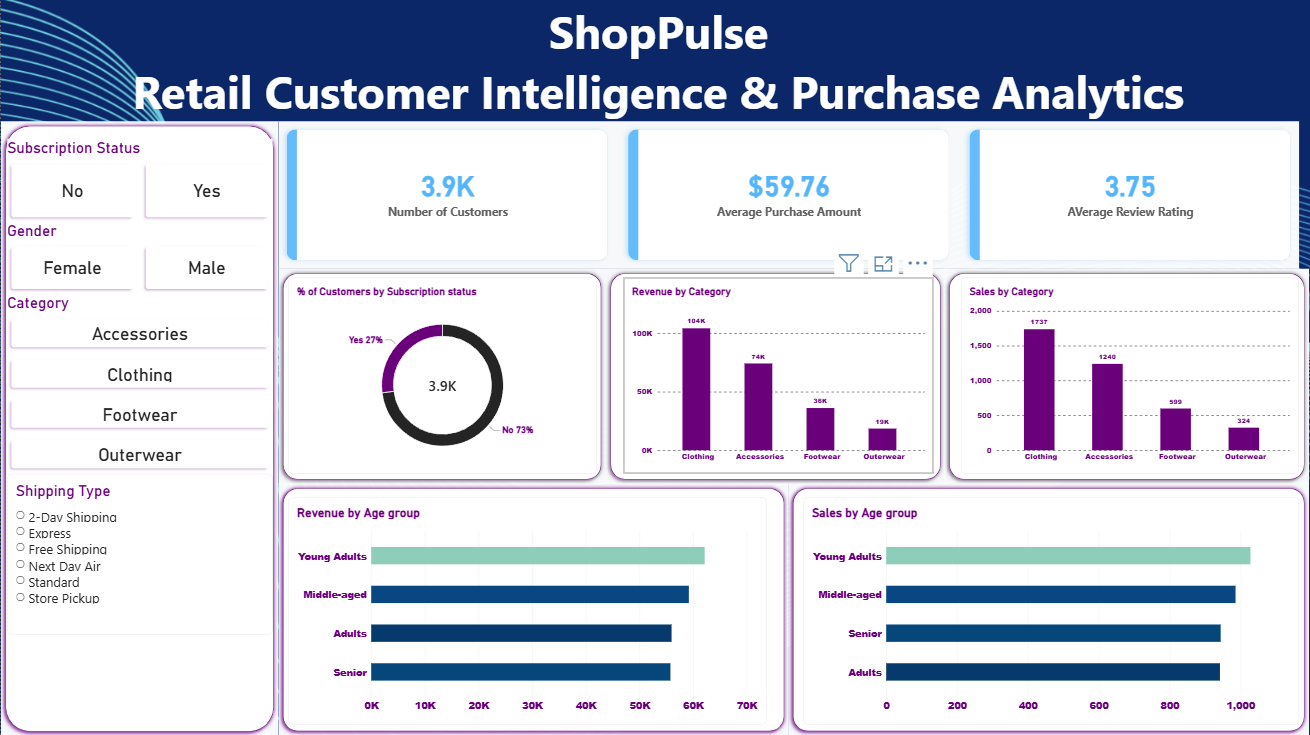

The dashboard page shown, as its layout file describes it:
{"tool":"powerbi","page":{"name":"Page 1","canvas":[2560,1440],"ordinal":0},"visuals":[{"type":"cardVisual","fields":{"Data":["public customer.Number of Customers","public customer.Average Purchase Amount","public customer.AVerage Review Rating"]},"box":[542.5,236.6,1996.8,288.6],"z":0},{"type":"shape","box":[542.5,525.2,640.6,421.3],"z":2000},{"type":"donutChart","title":"% of Customers by Subscription status","fields":{"Category":["public customer.subscription_status"],"Y":["CountNonNull(public customer.customer_id)"]},"box":[562.7,542.5,603.1,383.8],"z":3000},{"type":"shape","box":[1183.1,525.2,663.7,421.3],"z":4000},{"type":"shape","box":[1846.7,525.2,712.7,421.3],"z":5000},{"type":"clusteredColumnChart","title":"Revenue by Category","fields":{"Category":["public customer.category"],"Y":["Sum(public customer.purchase_amount)"]},"box":[1217.7,542.5,606,383.8],"z":6000},{"type":"clusteredColumnChart","title":"Sales by Category","fields":{"Category":["public customer.category"],"Y":["CountNonNull(public customer.customer_id)"]},"box":[1878.5,542.5,660.8,383.8],"z":7000},{"type":"textbox","box":[11.5,0,2547.9,236.6],"z":8000},{"type":"shape","box":[0,236.6,542.5,1203.3],"z":9000},{"type":"advancedSlicerVisual","title":"Subscription Status","fields":{"Values":["public customer.subscription_status"]},"box":[11.5,271.2,519.4,161.6],"z":10000},{"type":"advancedSlicerVisual","title":"Gender","fields":{"Values":["public customer.gender"]},"box":[11.5,432.8,519.4,141.4],"z":11000},{"type":"advancedSlicerVisual","title":"Category","fields":{"Values":["public customer.category"]},"box":[11.5,574.2,519.4,352],"z":12000},{"type":"listSlicer","title":"Shipping Type","fields":{"Values":["public customer.shipping_type"]},"box":[11.5,926.3,519.4,314.5],"z":13000},{"type":"shape","box":[542.5,946.5,998.4,493.4],"z":14000},{"type":"clusteredBarChart","title":"Revenue by Age group","fields":{"Category":["public customer.age_group"],"Y":["Sum(public customer.purchase_amount)"]},"box":[562.7,972.4,934.9,444.4],"z":15000},{"type":"shape","box":[1540.9,946.5,1018.6,493.4],"z":16000},{"type":"clusteredBarChart","title":"Sales by Age group","fields":{"Category":["public customer.age_group"],"Y":["CountNonNull(public customer.customer_id)"]},"box":[1569.7,972.4,969.5,444.4],"z":17000}]}

Visuals, with their boxes in screenshot pixels (x1, y1, x2, y2), scaled from the page's 2560x1440 canvas onto the 1310x735 screenshot:
cardVisual - public customer.Number of Customers x public customer.Average Purchase Amount: (278,121,1299,268)
shape: (278,268,605,483)
"% of Customers by Subscription status" donutChart: (288,277,597,473)
shape: (605,268,945,483)
shape: (945,268,1309,483)
"Revenue by Category" clusteredColumnChart: (623,277,933,473)
"Sales by Category" clusteredColumnChart: (961,277,1299,473)
textbox: (6,0,1309,121)
shape: (0,121,278,734)
"Subscription Status" advancedSlicerVisual: (6,138,272,221)
"Gender" advancedSlicerVisual: (6,221,272,293)
"Category" advancedSlicerVisual: (6,293,272,473)
"Shipping Type" listSlicer: (6,473,272,633)
shape: (278,483,789,734)
"Revenue by Age group" clusteredBarChart: (288,496,766,723)
shape: (789,483,1309,734)
"Sales by Age group" clusteredBarChart: (803,496,1299,723)
